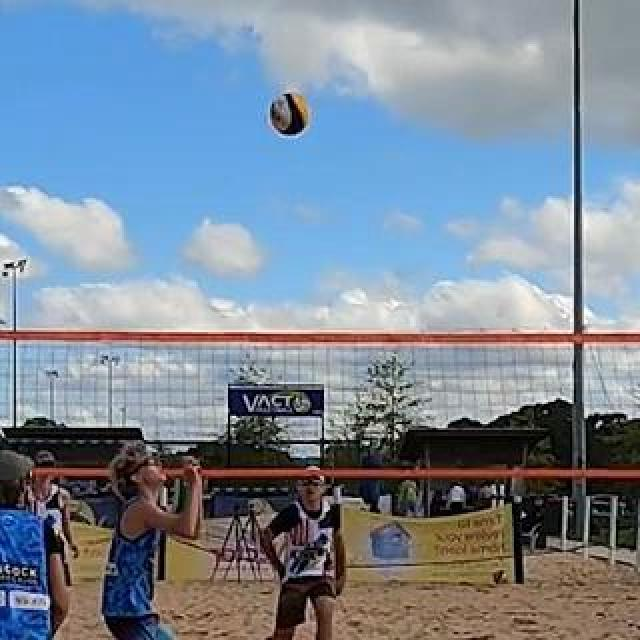volleyball: (270, 91, 310, 135), (493, 569, 509, 585)
